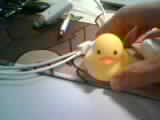duck: (79, 28, 127, 74)
